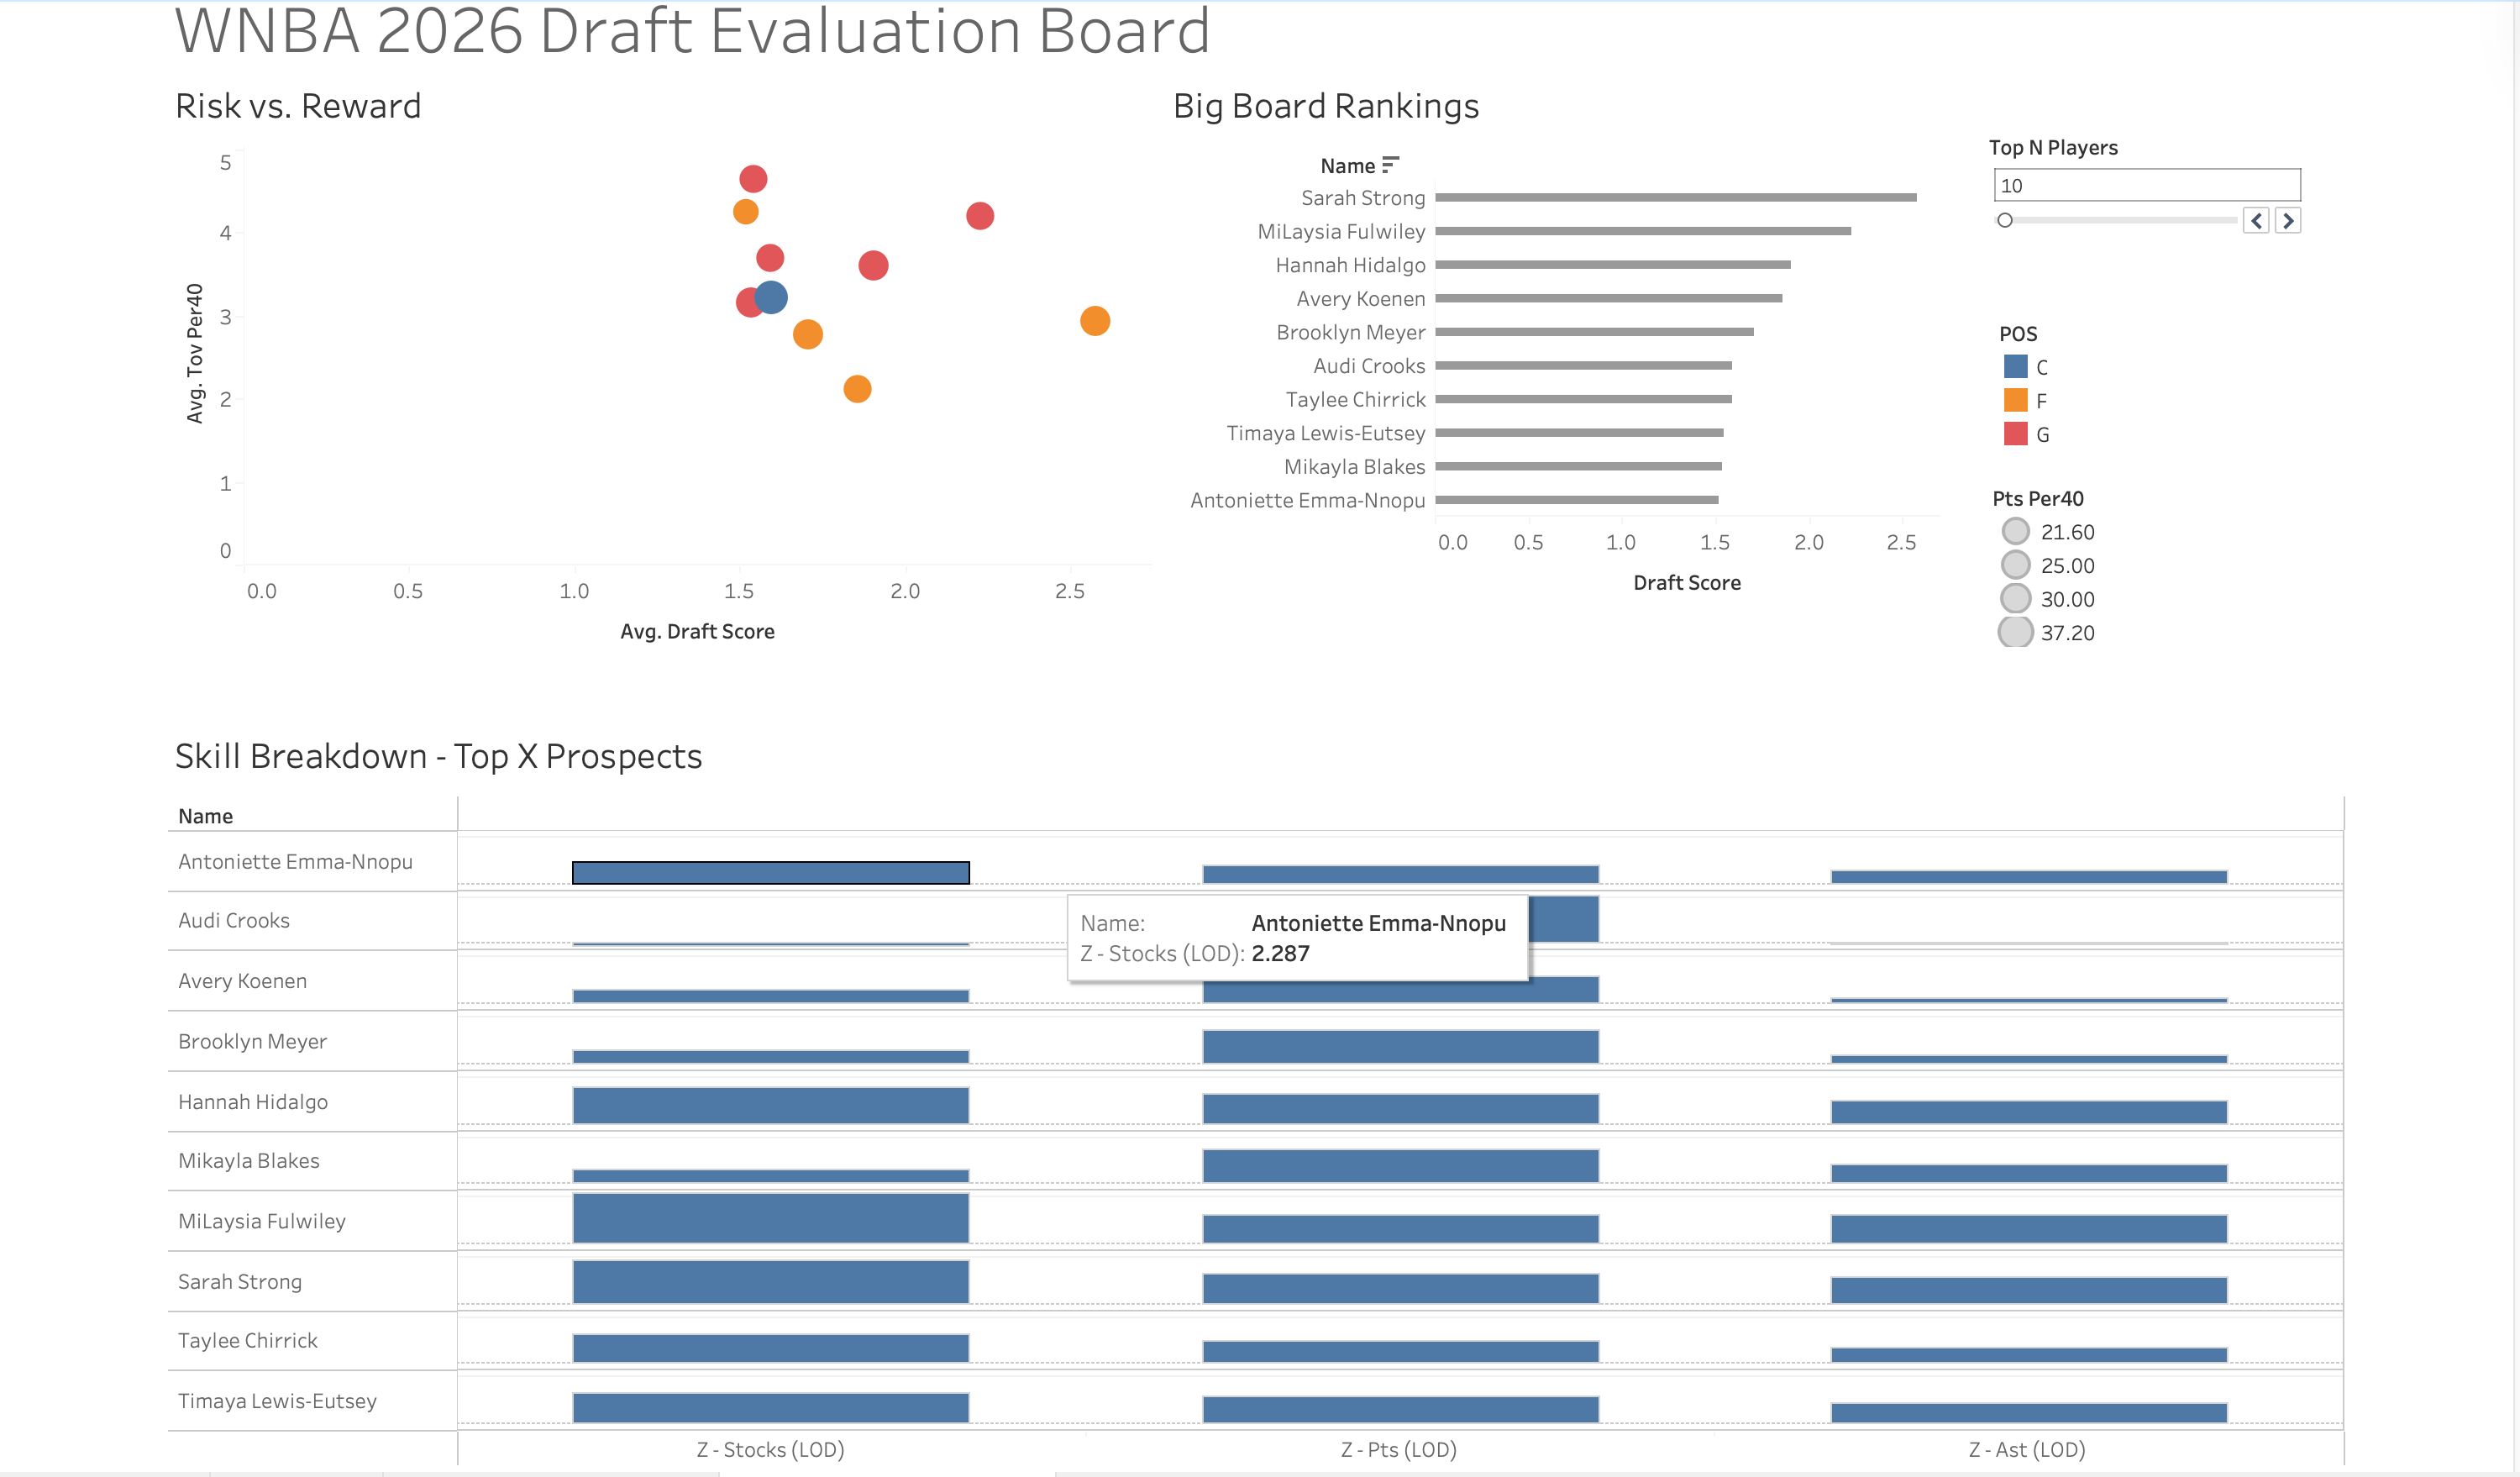

This screenshot's page, from the dashboard's own definition file:
{"tool":"tableau","page":{"name":"WNBA 2026 Draft Dashboard","canvas":[1000,1000],"units":"permille","ordinal":0},"visuals":[{"type":"text","box":[6.1,8.9,987.9,52.2]},{"type":"worksheet","title":"Risk vs. Reward","mark":"Circle","rows":["tov_per40"],"cols":["draft_score"],"box":[6.1,61.1,450.4,394.4]},{"type":"worksheet","title":"Big Board Rankings","mark":"Automatic","rows":["Name"],"cols":["draft_score"],"box":[456.4,61.1,355.1,394.4]},{"type":"blank","box":[811.5,61.1,182.4,394.4]},{"type":"parameter","param":"[Parameters].[Parameter 1]","box":[830.5,104.4,143.1,108.9]},{"type":"legend","title":"Risk vs. Reward","param":"[federated.00bubcx1k13va01ax6qps0inswgo].[none:POS:nk]","box":[835.1,227.8,133,90]},{"type":"legend","title":"Risk vs. Reward","param":"[federated.00bubcx1k13va01ax6qps0inswgo].[sum:pts_per40:qk]","box":[832,336.7,115.1,141.1]},{"type":"worksheet","title":"Skill Breakdown - Top X Prospects","mark":"Bar","rows":["Name"],"box":[6.1,491.1,987.9,500]}]}

Visuals, with their boxes on the dashboard's canvas, which has no fixed pixel size, in thousandths of its width and height (x1, y1, x2, y2). These are canvas units, not pixel positions in the 2520x1477 screenshot, which may show the page scaled, cropped or inside an application window:
text: Rect(6, 9, 994, 61)
"Risk vs. Reward" worksheet (Circle marks): Rect(6, 61, 456, 456)
"Big Board Rankings" worksheet: Rect(456, 61, 812, 456)
blank: Rect(812, 61, 994, 456)
parameter: Rect(830, 104, 974, 213)
"Risk vs. Reward" legend: Rect(835, 228, 968, 318)
"Risk vs. Reward" legend: Rect(832, 337, 947, 478)
"Skill Breakdown - Top X Prospects" worksheet (Bar marks): Rect(6, 491, 994, 991)
